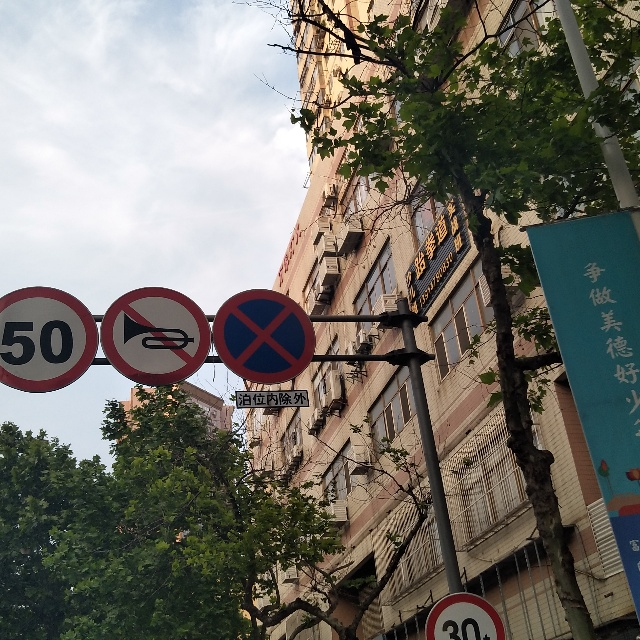nohonk: (99, 283, 213, 388)
stop: (216, 283, 319, 388)
